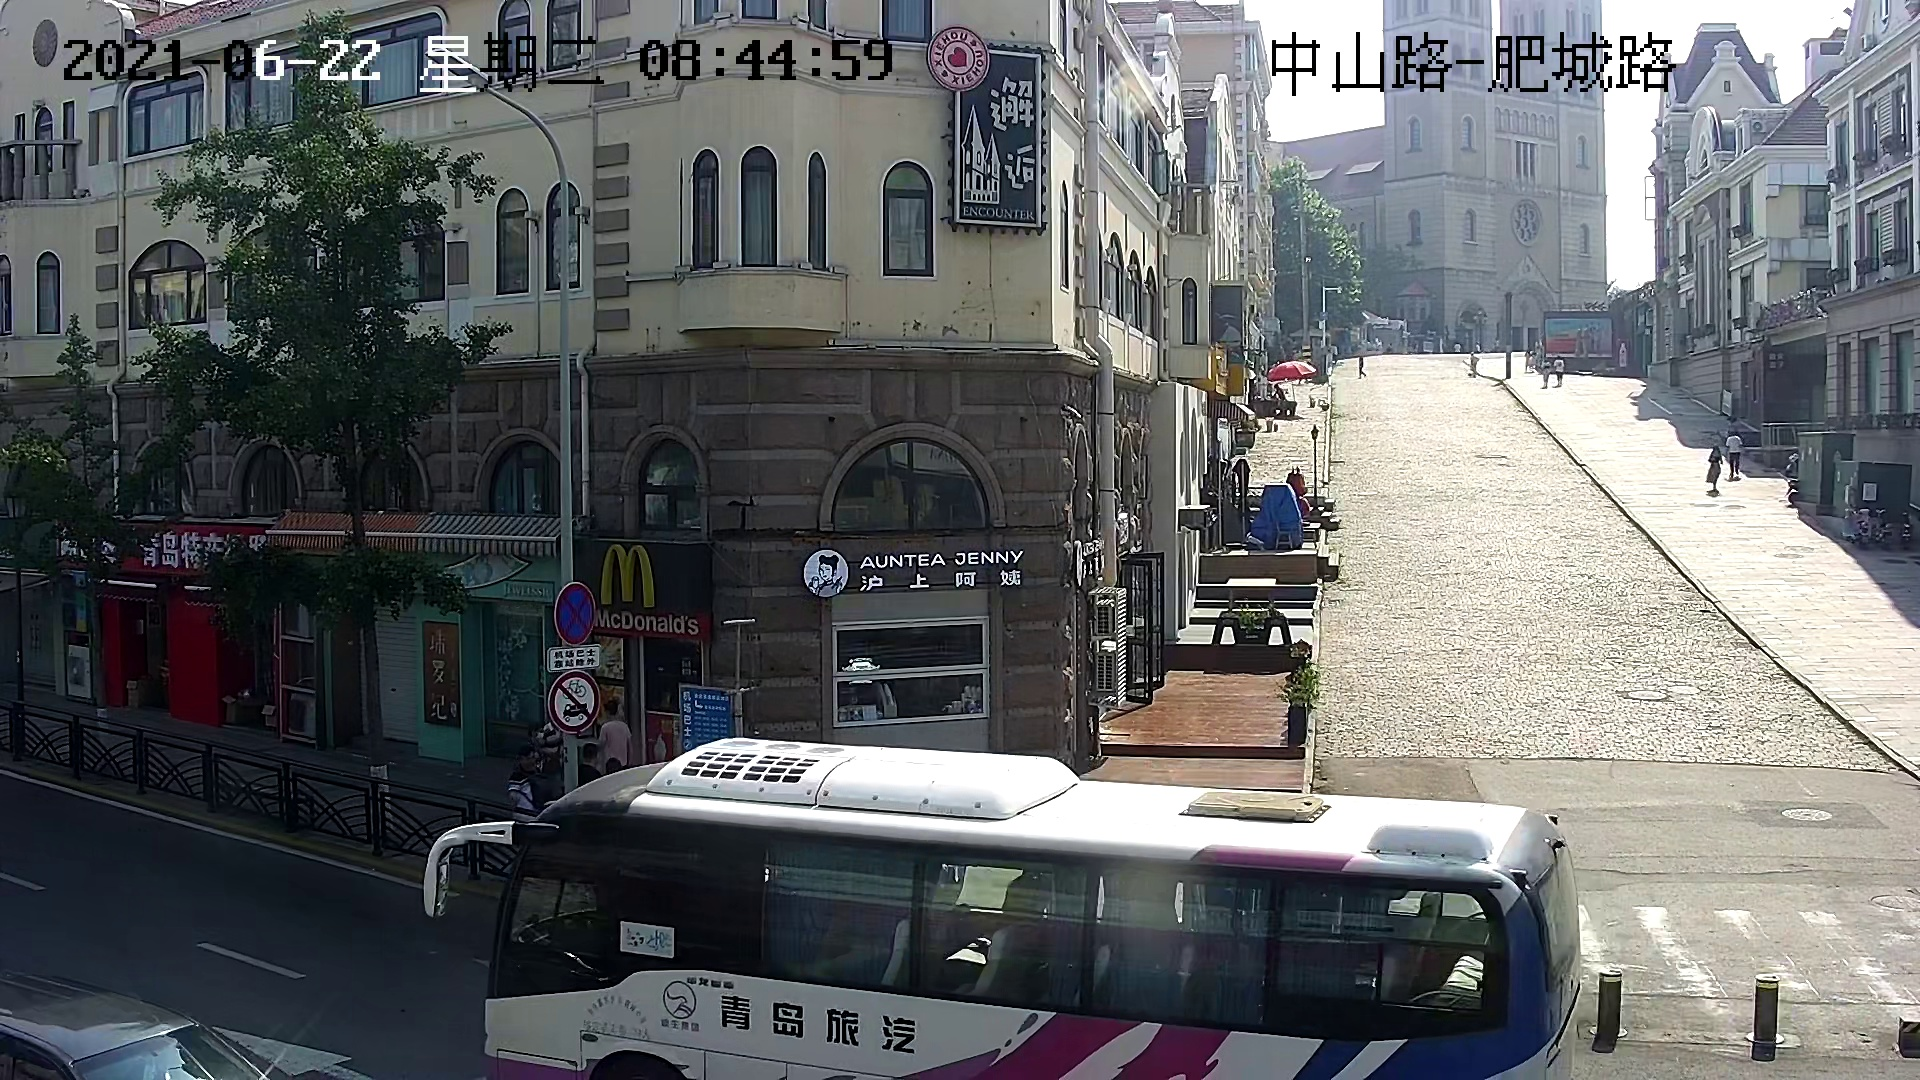umbrella: (1265, 359, 1319, 382)
